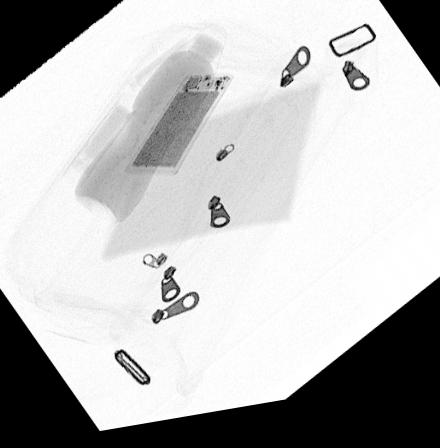Powerbank: (125, 80, 235, 181)
